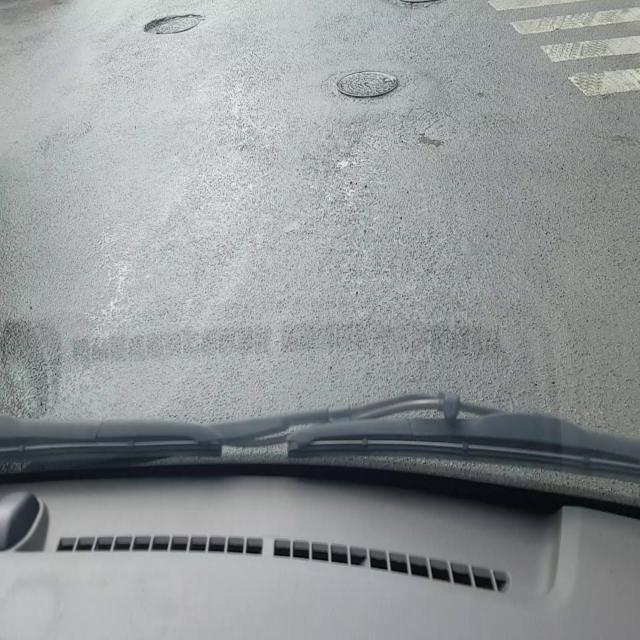Buraco: (141, 13, 203, 35)
